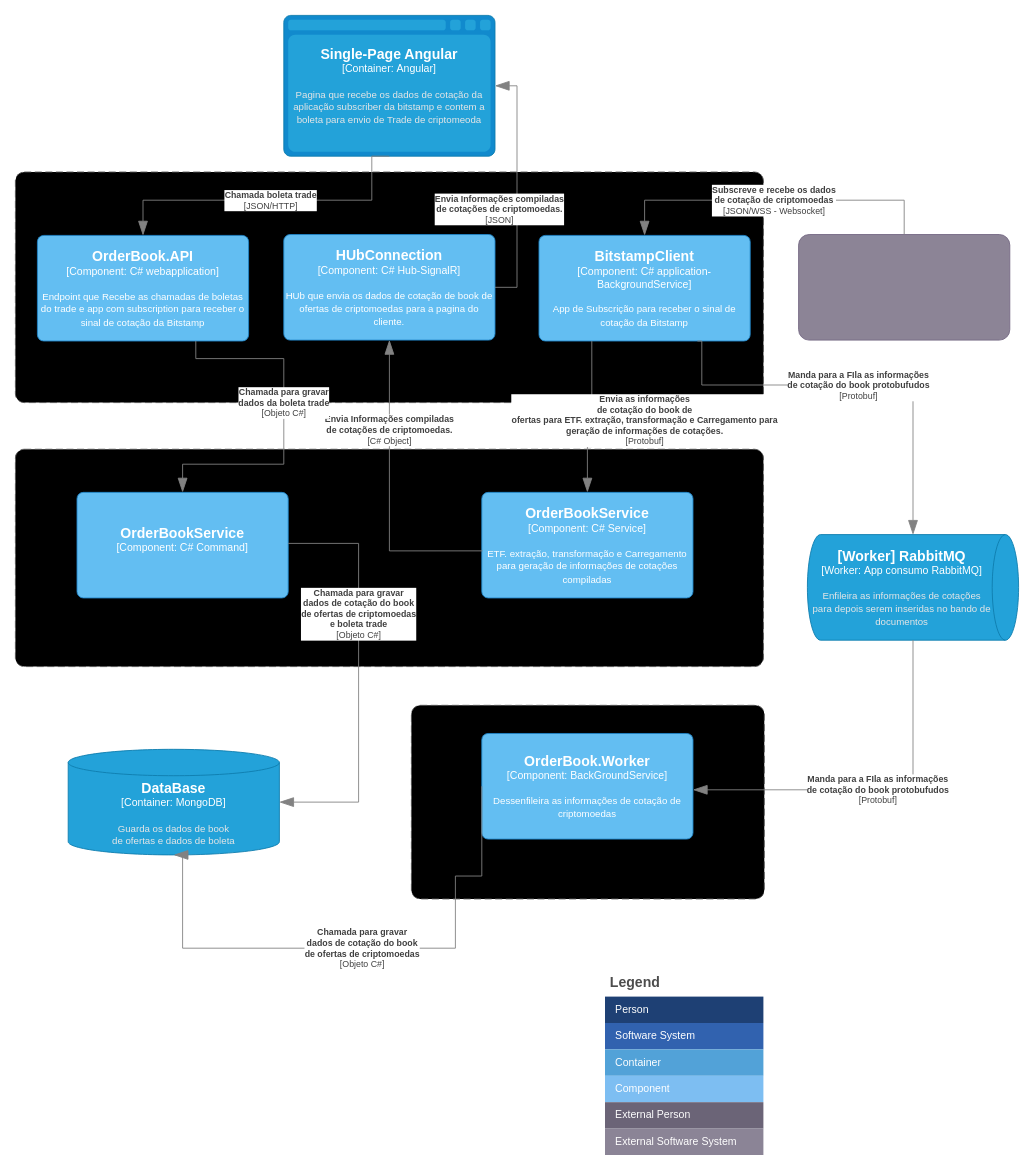
The diagram is 1034 pixels wide and 1170 high, and some of its shapes have lost their labels. The shapes that lost their labels are listed below. From the top down, each one's box as (x1, y1, x2, y2) in pixels, then its label:
(15, 171, 763, 403): [Component] OrderBook.API [OrderBookSystem]
(798, 234, 1010, 340): BitStamp [Software System] Pu/Sub com cotações de criptomoedas
(15, 448, 763, 667): [Component] OrderBook.Application [OrderBookSystem]
(411, 704, 764, 899): [Component] OrderBook.Worker [OrderBookSystem]
